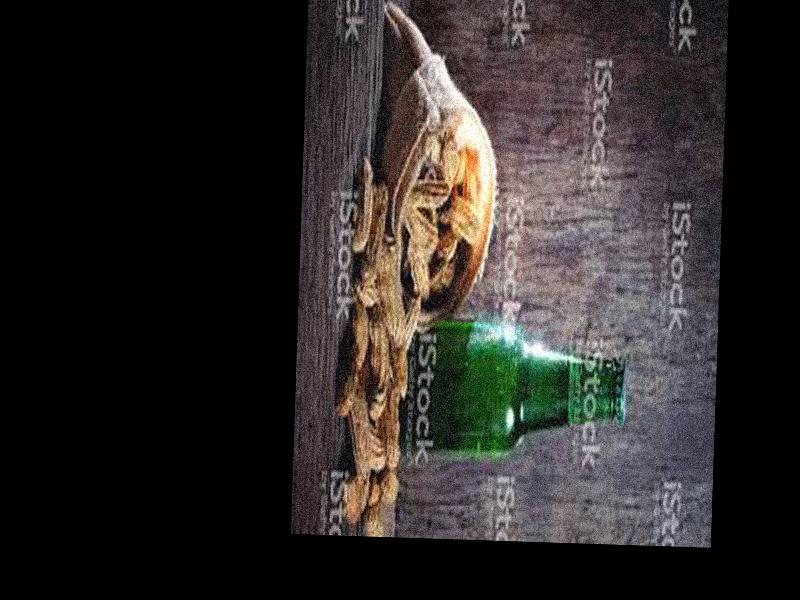Beer: (381, 313, 630, 459)
